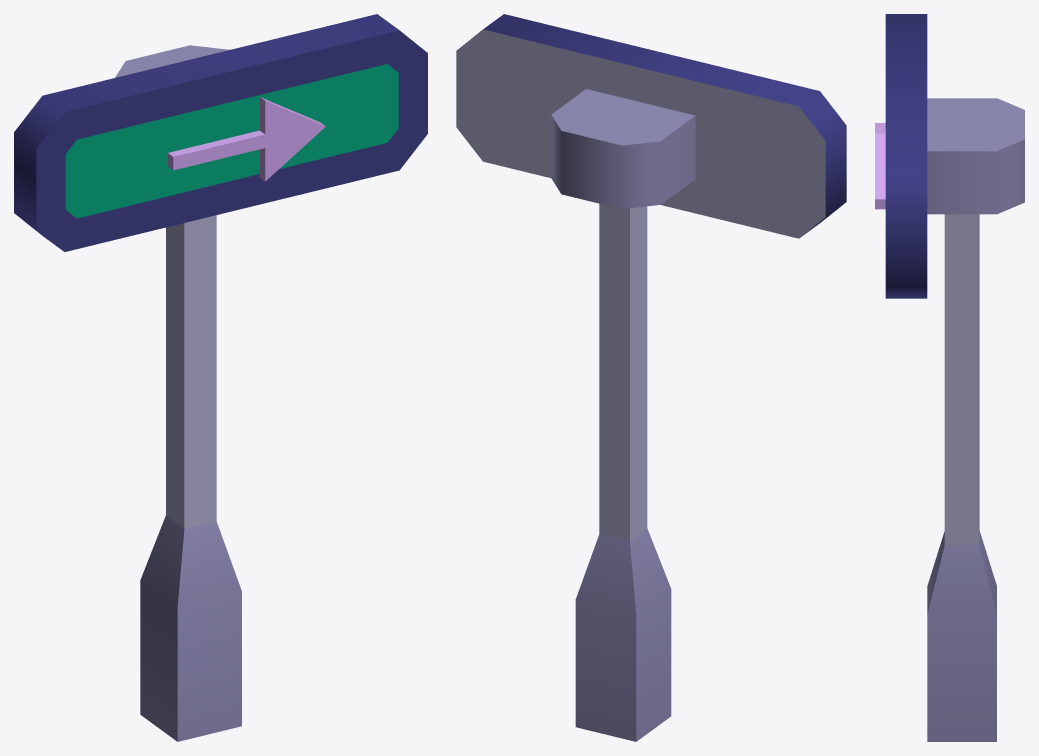
File: arrow.fbx
3 renders of one model, left to right at view 1: azimuth 30°, elevation 25°; view 2: azimuth 150°, elevation 25°; view 3: azimuth 270°, elevation 25°, orthographic. The views are drawn at different scales.
Visible parts, largest first — view 1: lightpost_signStreet%, lightpost_squarePole%, blockTriangle, block; view 2: lightpost_signStreet%, lightpost_squarePole%; view 3: lightpost_squarePole%, lightpost_signStreet%, blockTriangle.
Boxes of the visible parts, x1=… form: lightpost_signStreet%: x1=14, y1=14, x2=427, y2=251; lightpost_squarePole%: x1=140, y1=215, x2=241, y2=741; blockTriangle: x1=259, y1=97, x2=325, y2=181; block: x1=167, y1=129, x2=285, y2=170; lightpost_signStreet%: x1=456, y1=14, x2=846, y2=238; lightpost_squarePole%: x1=575, y1=203, x2=671, y2=741; lightpost_squarePole%: x1=927, y1=214, x2=996, y2=741; lightpost_signStreet%: x1=885, y1=14, x2=1024, y2=298; blockTriangle: x1=875, y1=133, x2=885, y2=209.
Bounding box in the file's own units: 6.08 × 10.08 × 2.15.
